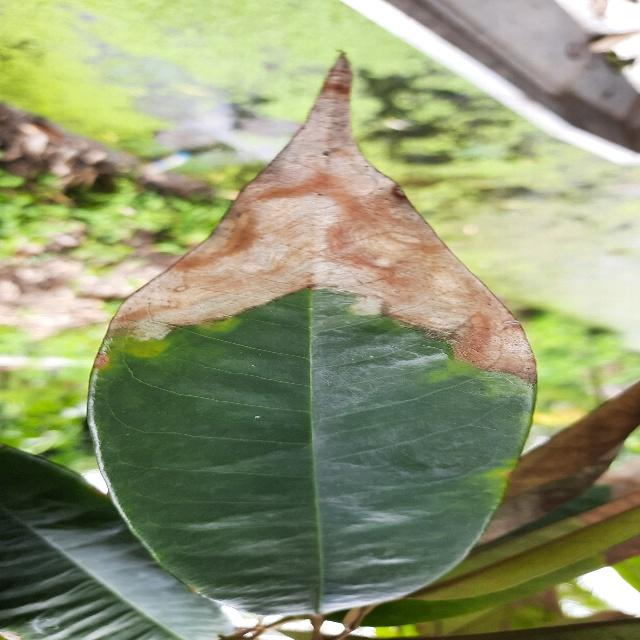Leaf Blight: (79, 47, 551, 631)
